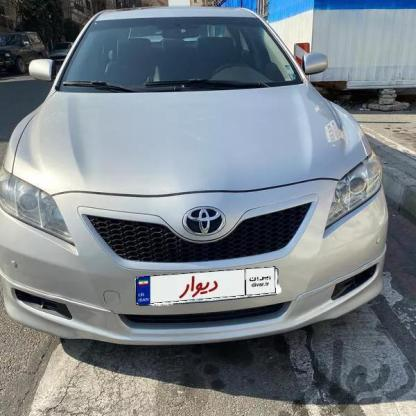Car: (0, 0, 382, 355), (0, 29, 48, 83)
